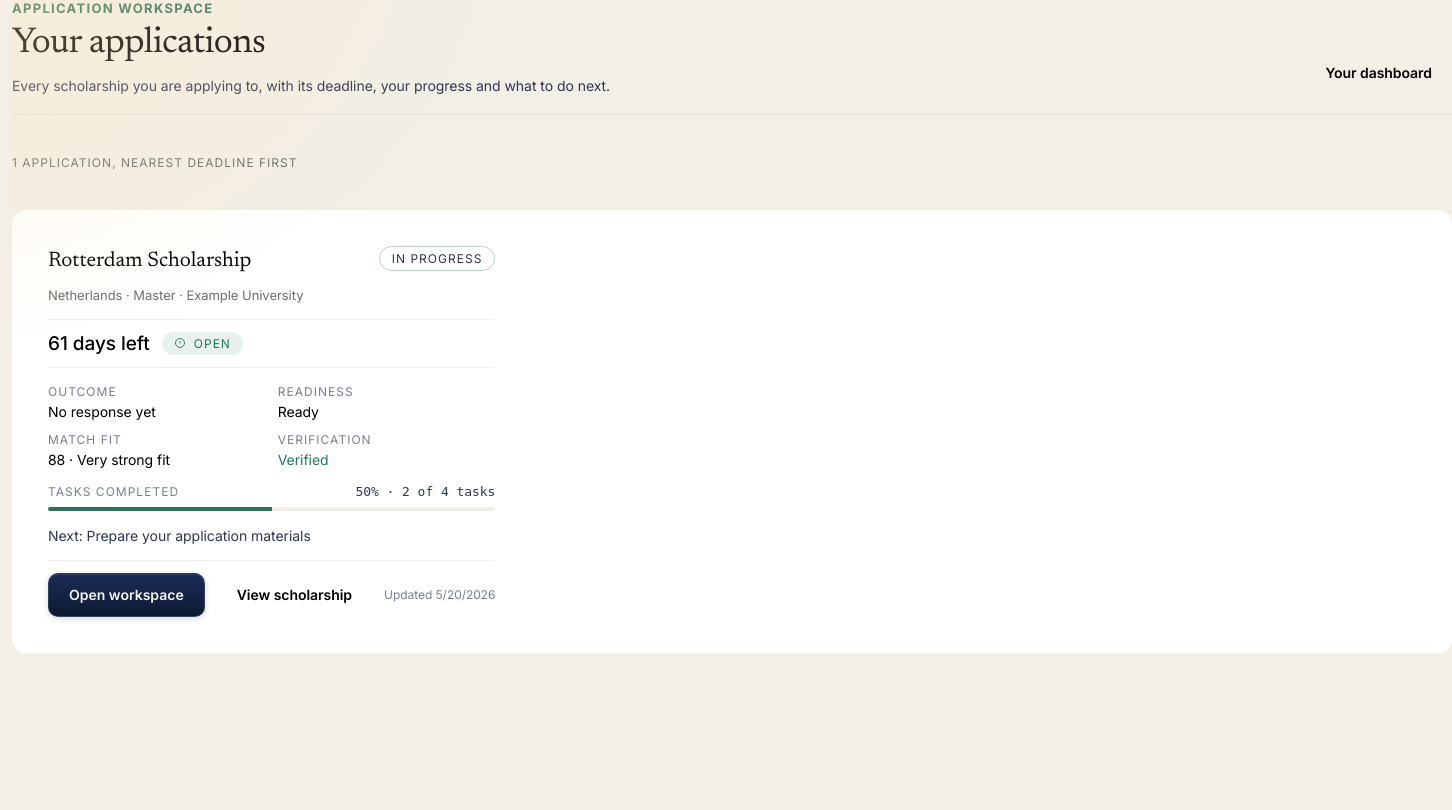
ApplicationWorkspace › saves a note with the version and shows it back
Step 1. Click the button "Open workspace" → (126, 595), box [48,573,205,617]
(page scrolled)
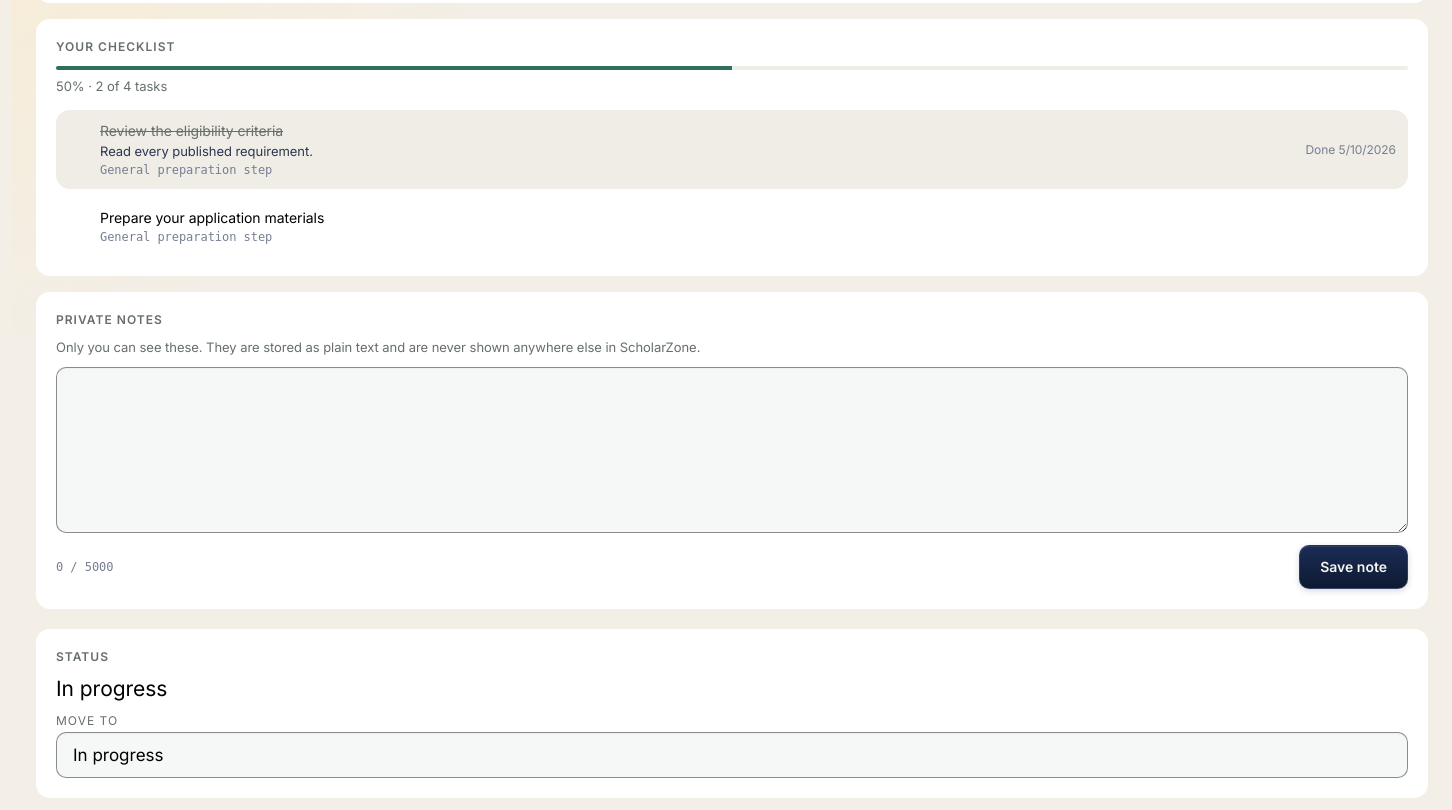
Step 2. Type "Panel interview in March; referee is Dr Okafor." into the text box named "Your private notes for this application" → (732, 450), box [56,367,1408,533]
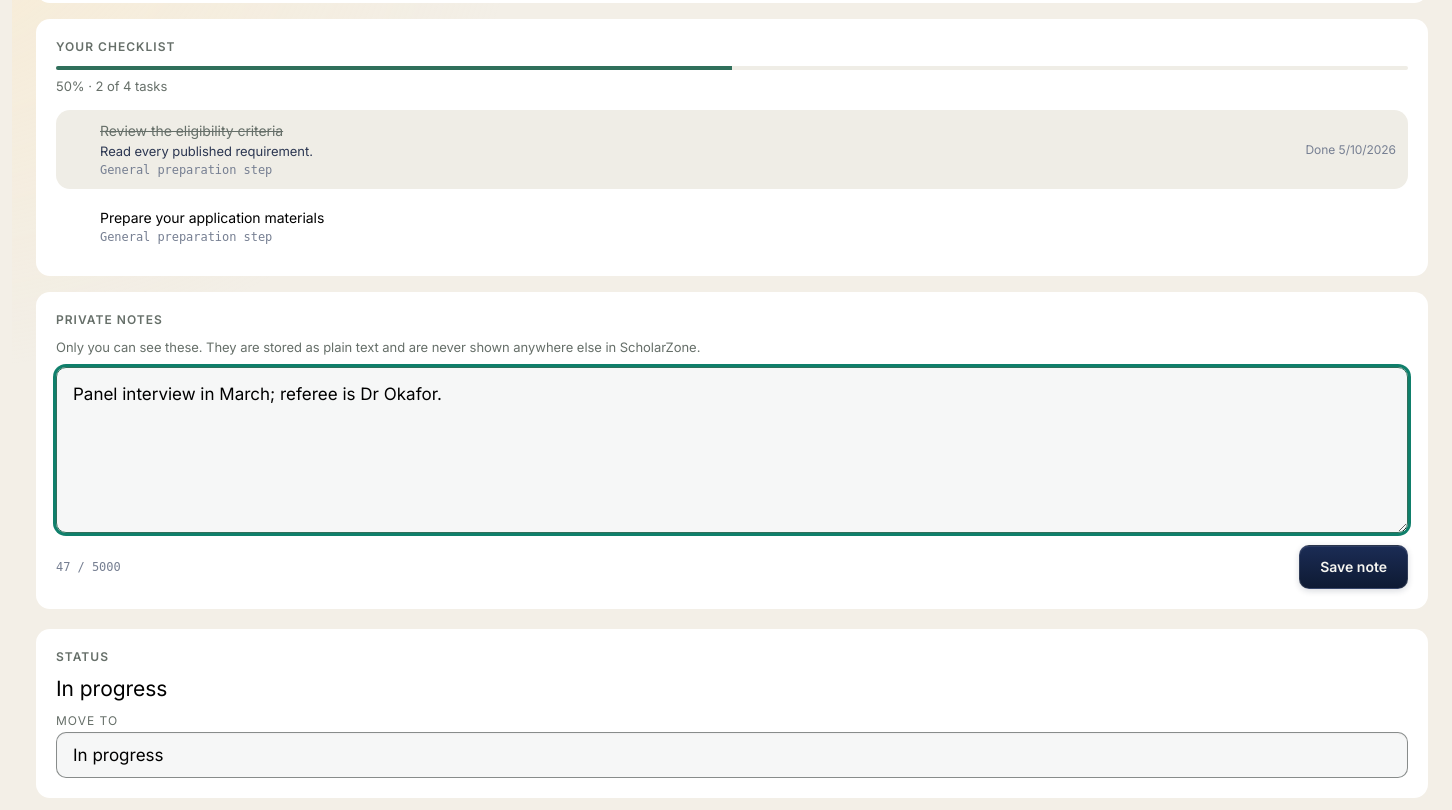
Step 3. Click the button "Save note" → (1354, 567), box [1299,545,1408,589]
(page scrolled)
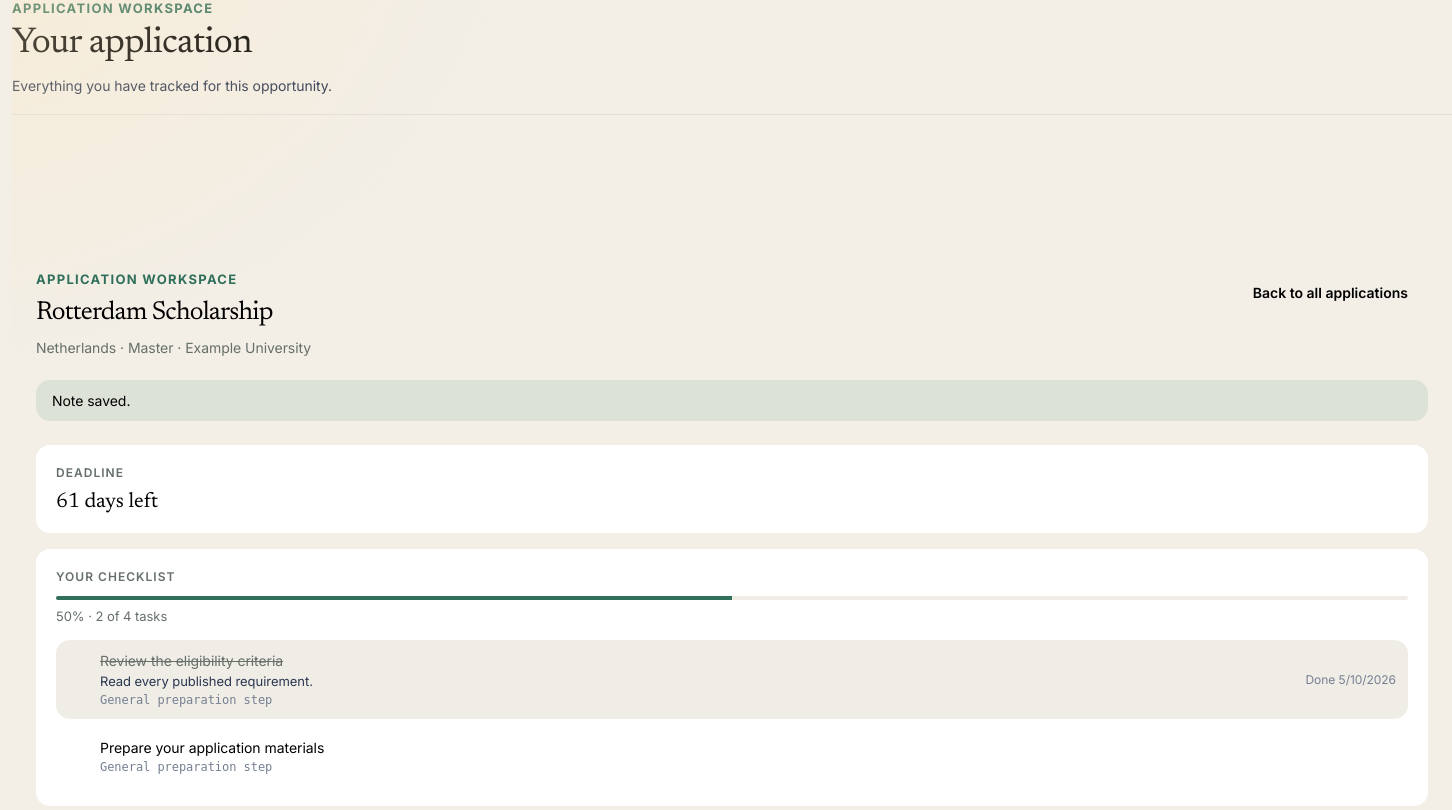
Result: the text "Note saved." is shown at [36,380,1428,421]
